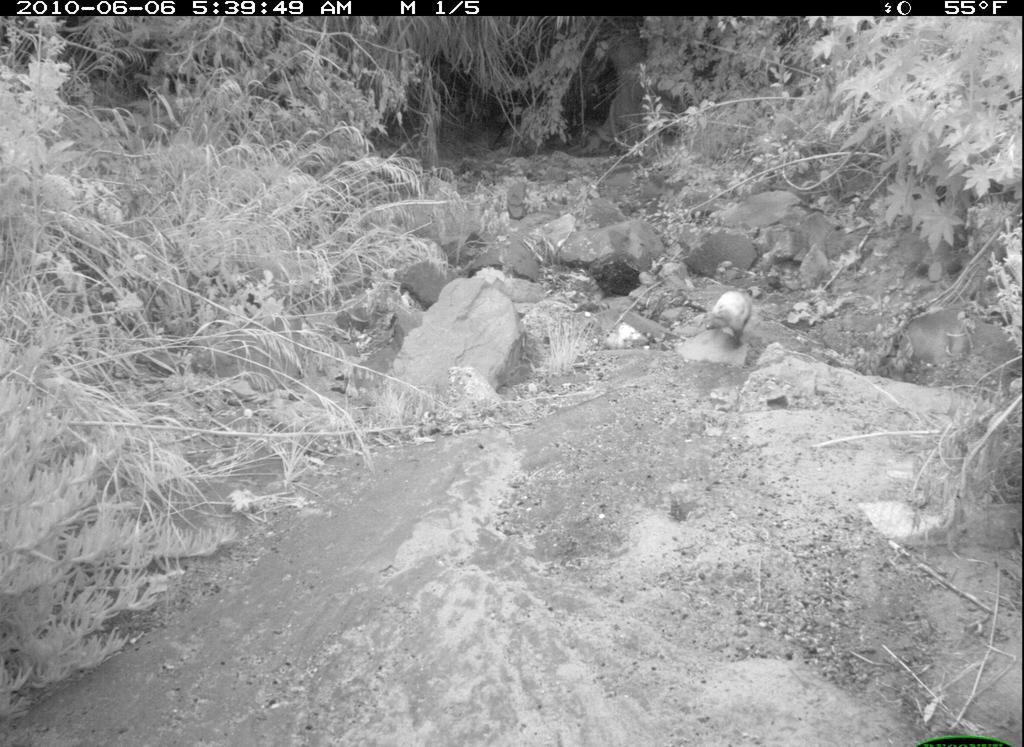opossum: (701, 283, 766, 367)
